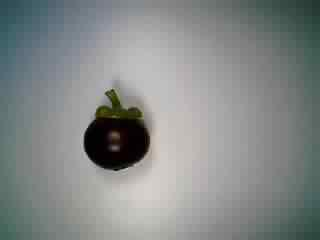mangosteen: (79, 85, 156, 170)
